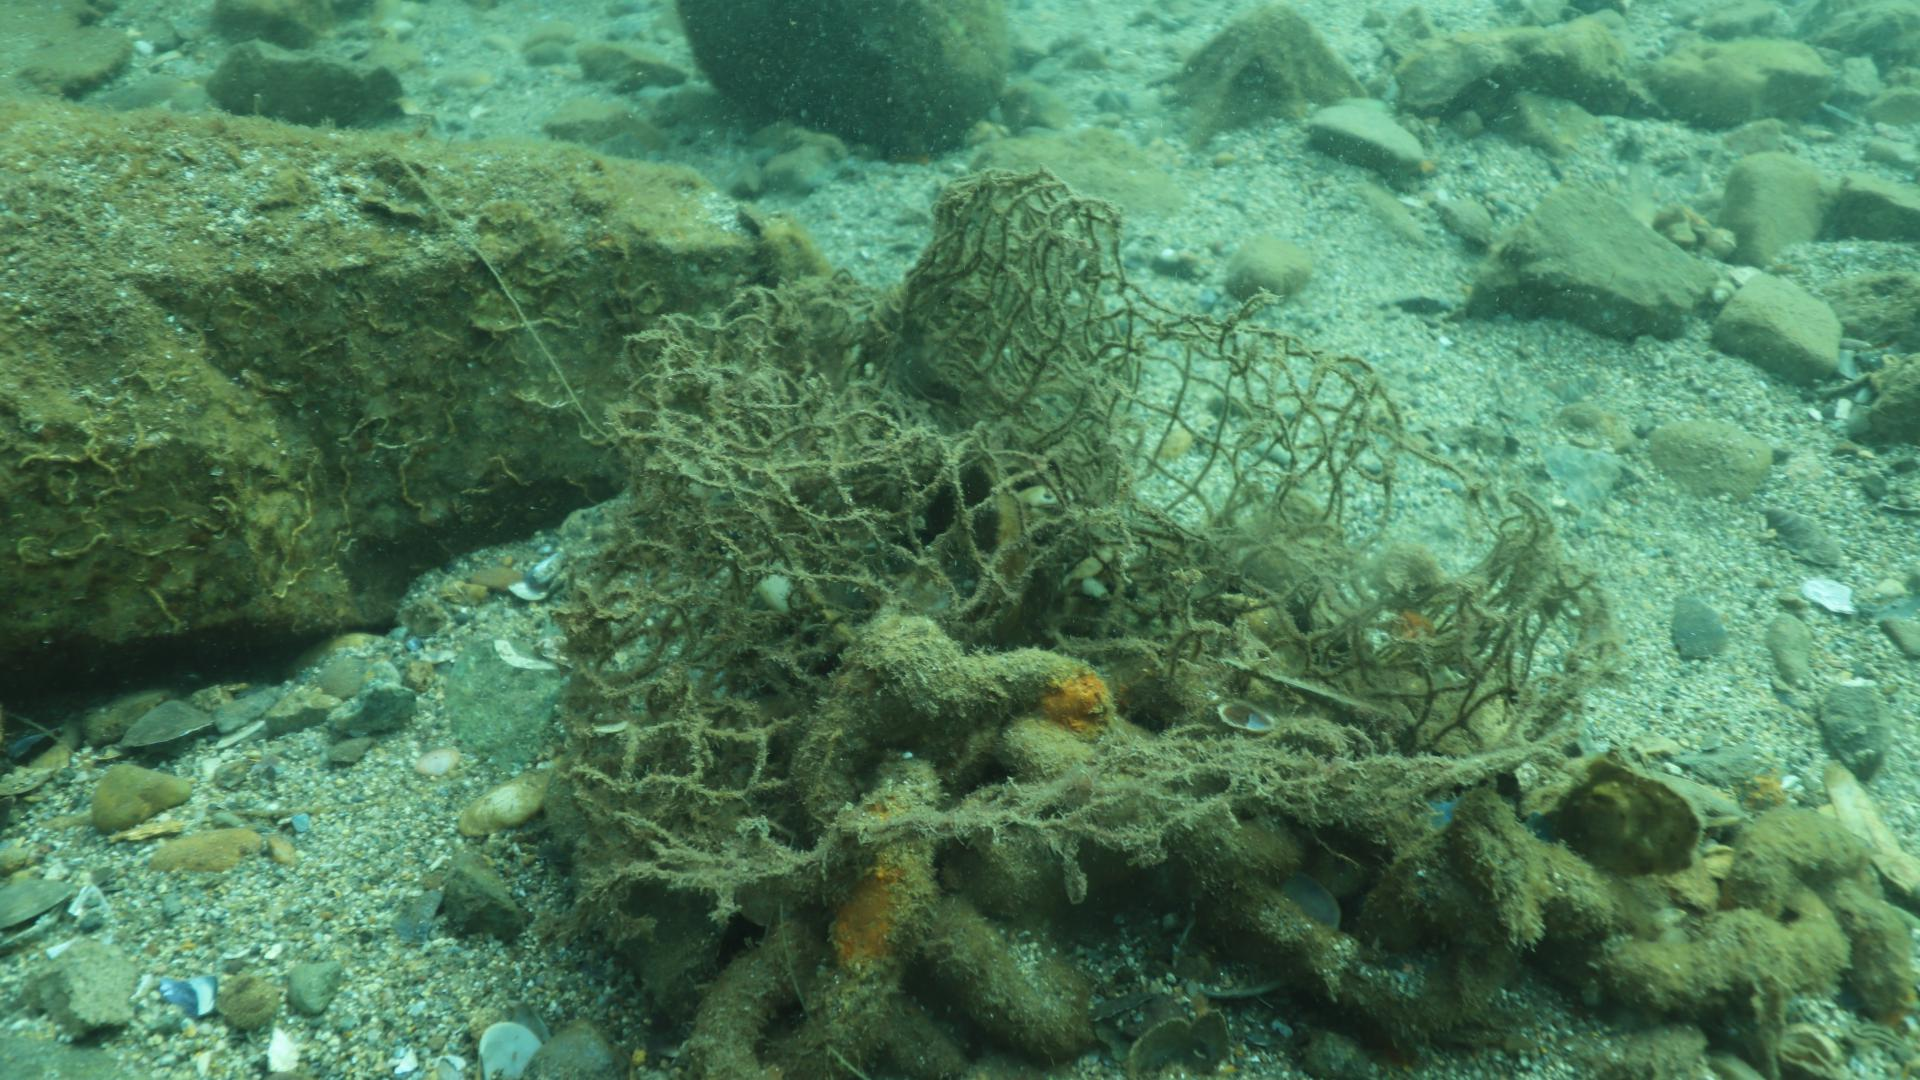fish net: (545, 165, 1625, 748)
